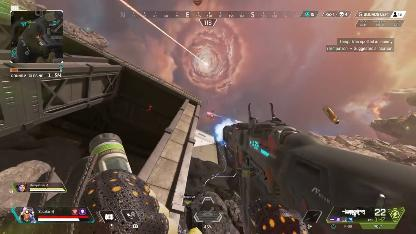Target: (206, 109, 216, 119)
